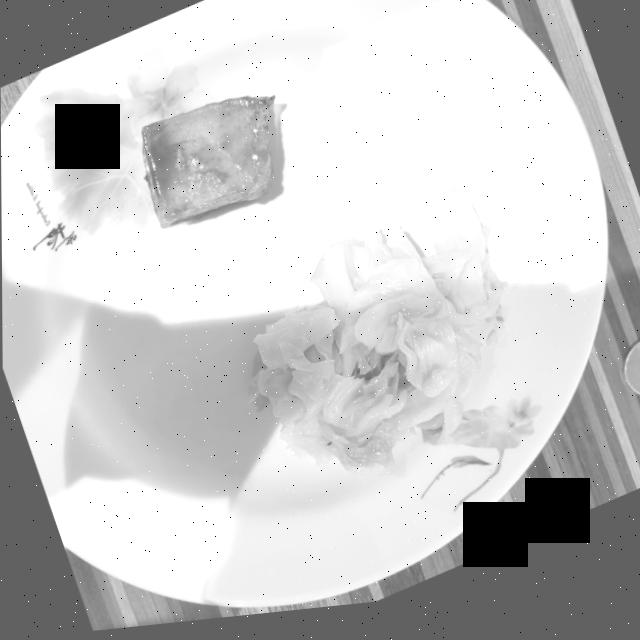cabbage: (247, 198, 532, 477)
coin: (621, 355, 640, 410)
creamy tofu: (140, 101, 274, 232)
